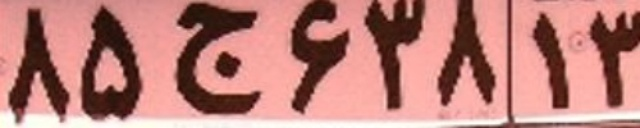1: (529, 8, 571, 110)
3: (360, 0, 426, 110), (587, 9, 638, 107)
5: (83, 4, 147, 120)
6: (285, 0, 356, 112)
8: (9, 7, 71, 119), (438, 1, 498, 108)
jim: (170, 2, 263, 115)
